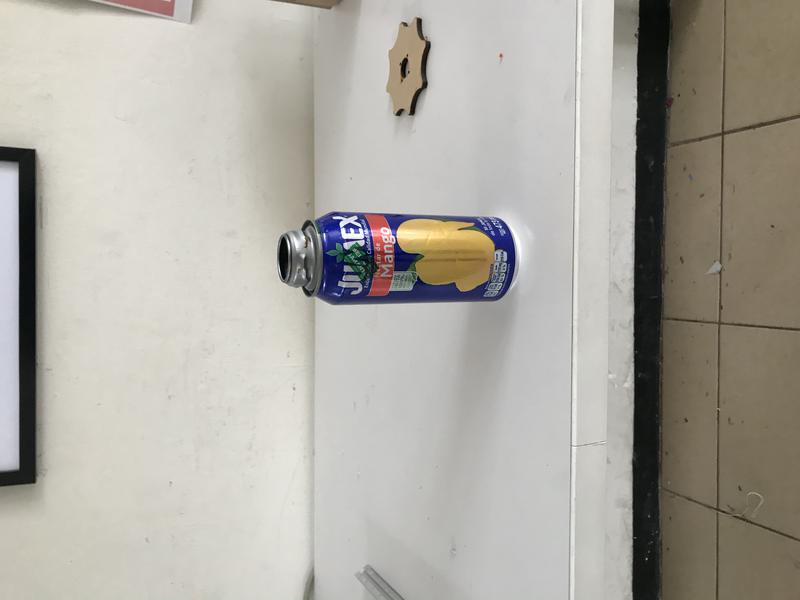jumex_botella: (276, 212, 520, 307)
